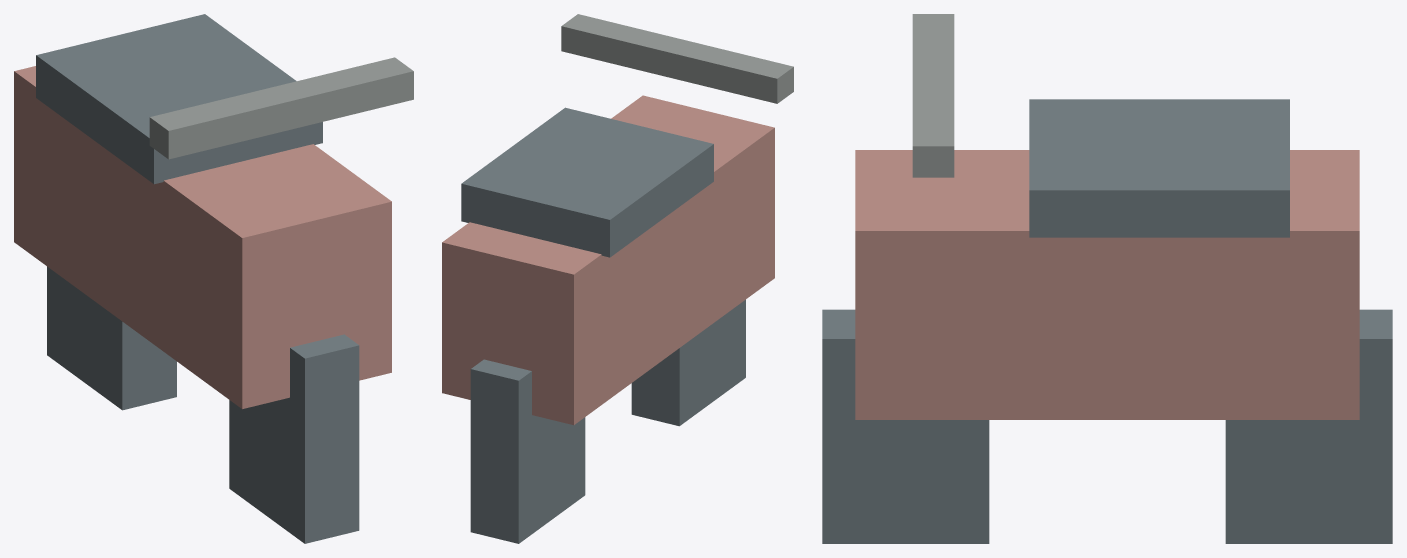
Rendered from motorbike_toy.glb.
3 renders of one model, left to right at view 1: azimuth 30°, elevation 25°; view 2: azimuth 150°, elevation 25°; view 3: azimuth 270°, elevation 25°, orthographic. The views are drawn at different scales.
Parts seen in each view (by area): view 1: motorbike_body, motorbike_seat, motorbike_wheel_1, motorbike_handle, motorbike_wheel_0; view 2: motorbike_body, motorbike_seat, motorbike_wheel_0, motorbike_handle, motorbike_wheel_1; view 3: motorbike_body, motorbike_seat, motorbike_wheel_0, motorbike_wheel_1, motorbike_handle.
Part boxes in pixels (x1=…): motorbike_body: x1=14, y1=66, x2=391, y2=409; motorbike_seat: x1=36, y1=14, x2=322, y2=184; motorbike_wheel_1: x1=229, y1=334, x2=359, y2=543; motorbike_handle: x1=149, y1=57, x2=413, y2=159; motorbike_wheel_0: x1=47, y1=266, x2=176, y2=410; motorbike_body: x1=442, y1=95, x2=774, y2=425; motorbike_seat: x1=461, y1=107, x2=713, y2=257; motorbike_wheel_0: x1=470, y1=359, x2=585, y2=543; motorbike_handle: x1=561, y1=14, x2=793, y2=103; motorbike_wheel_1: x1=631, y1=299, x2=745, y2=426; motorbike_body: x1=855, y1=150, x2=1359, y2=419; motorbike_seat: x1=1029, y1=99, x2=1289, y2=237; motorbike_wheel_0: x1=1225, y1=309, x2=1392, y2=543; motorbike_wheel_1: x1=822, y1=309, x2=989, y2=543; motorbike_handle: x1=912, y1=14, x2=954, y2=177.
Size of the model in its own units: 0.9 by 1.43 by 1.64.
